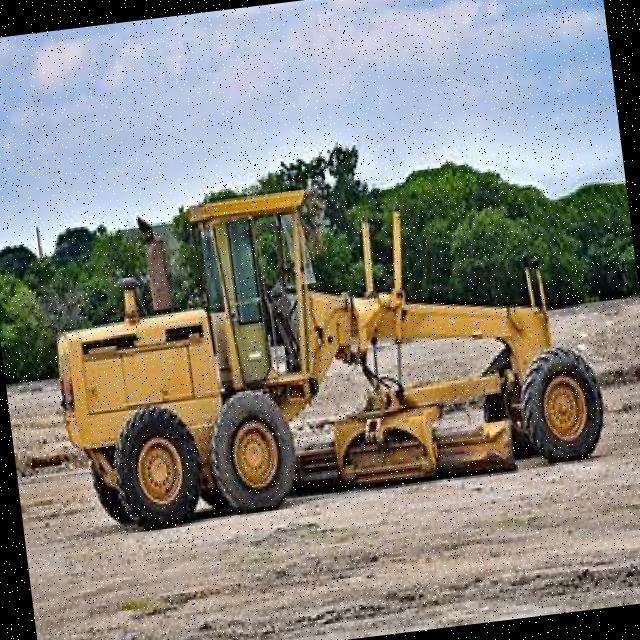Grader: (32, 128, 610, 548)
